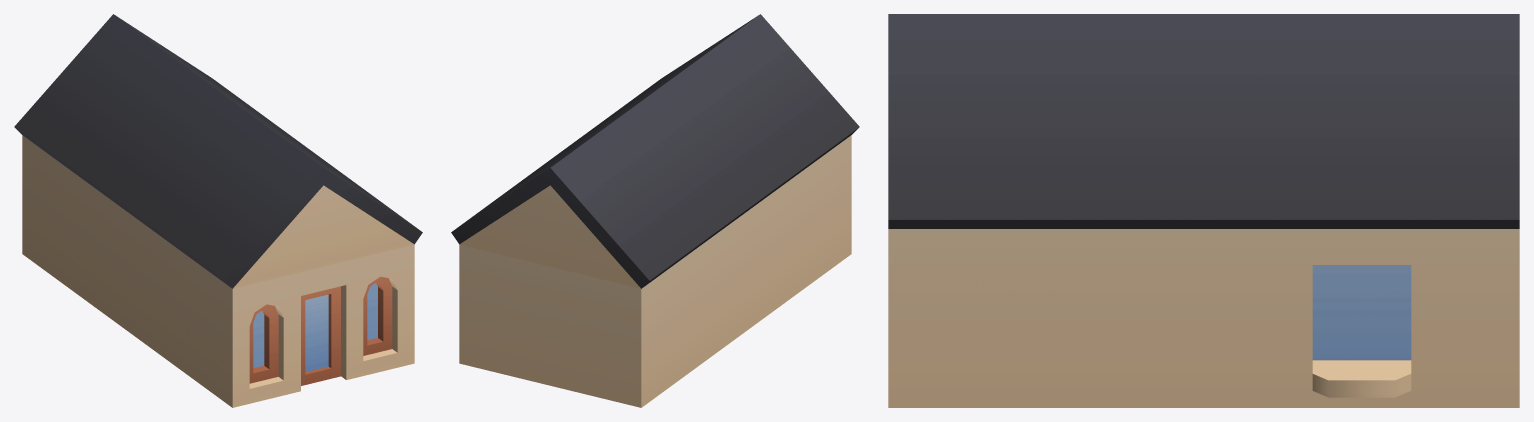
File: house_s_a.glb
3 views of the same model, side by side, from view 1: azimuth 30°, elevation 25°; view 2: azimuth 150°, elevation 25°; view 3: azimuth 270°, elevation 25° (orthographic). The views are drawn at different scales.
Parts seen in each view (by area): view 1: building-sample-house-a; view 2: building-sample-house-a; view 3: building-sample-house-a.
Boxes of the visible parts, x1=… form: building-sample-house-a: x1=14, y1=14, x2=422, y2=407; building-sample-house-a: x1=451, y1=14, x2=859, y2=407; building-sample-house-a: x1=888, y1=14, x2=1519, y2=407.
Bounding box in the file's own units: 1.1 × 1.14 × 2.
1 material, 1 textured.
